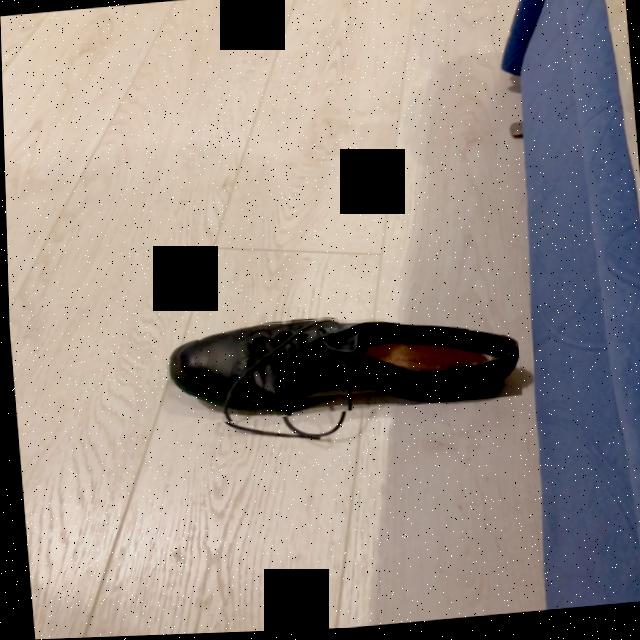shoe: (166, 323, 517, 414)
